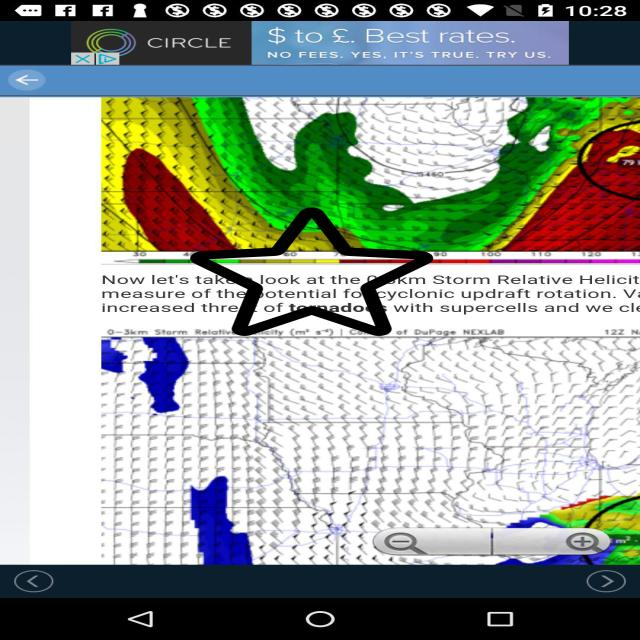forced continuity: (190, 204, 433, 338)
